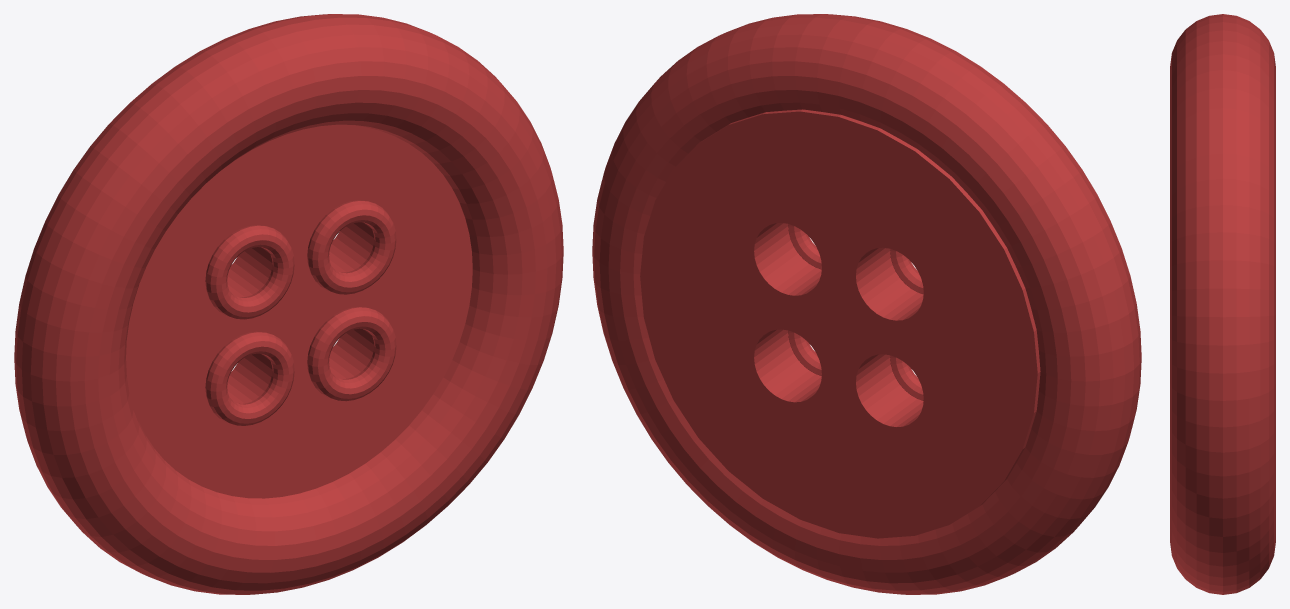
File: Button.glb
3 renders of one model, left to right at view 1: azimuth 30°, elevation 25°; view 2: azimuth 150°, elevation 25°; view 3: azimuth 270°, elevation 25°, orthographic. The views are drawn at different scales.
Visible parts, largest first — view 1: Button_body; view 2: Button_body; view 3: Button_body.
Boxes of the visible parts, x1=… form: Button_body: x1=14, y1=14, x2=563, y2=594; Button_body: x1=592, y1=14, x2=1141, y2=594; Button_body: x1=1170, y1=14, x2=1275, y2=594.
Bounding box in the file's own units: 15.75 × 15.75 × 2.87.
